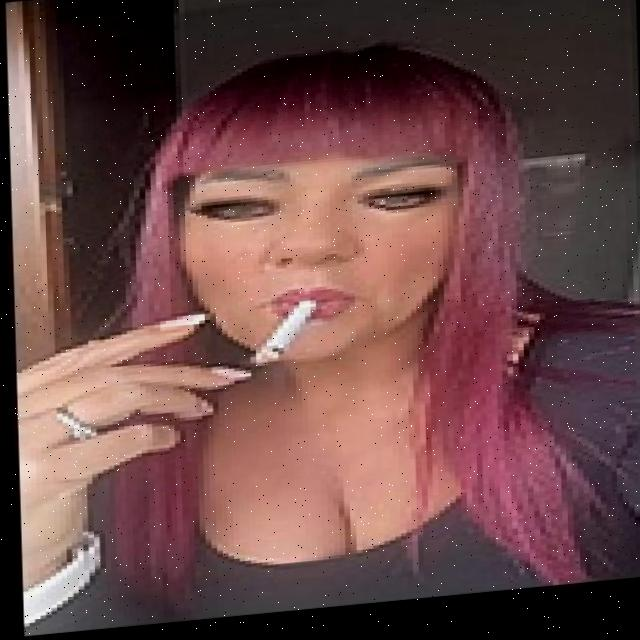cigarette: (247, 305, 316, 371)
